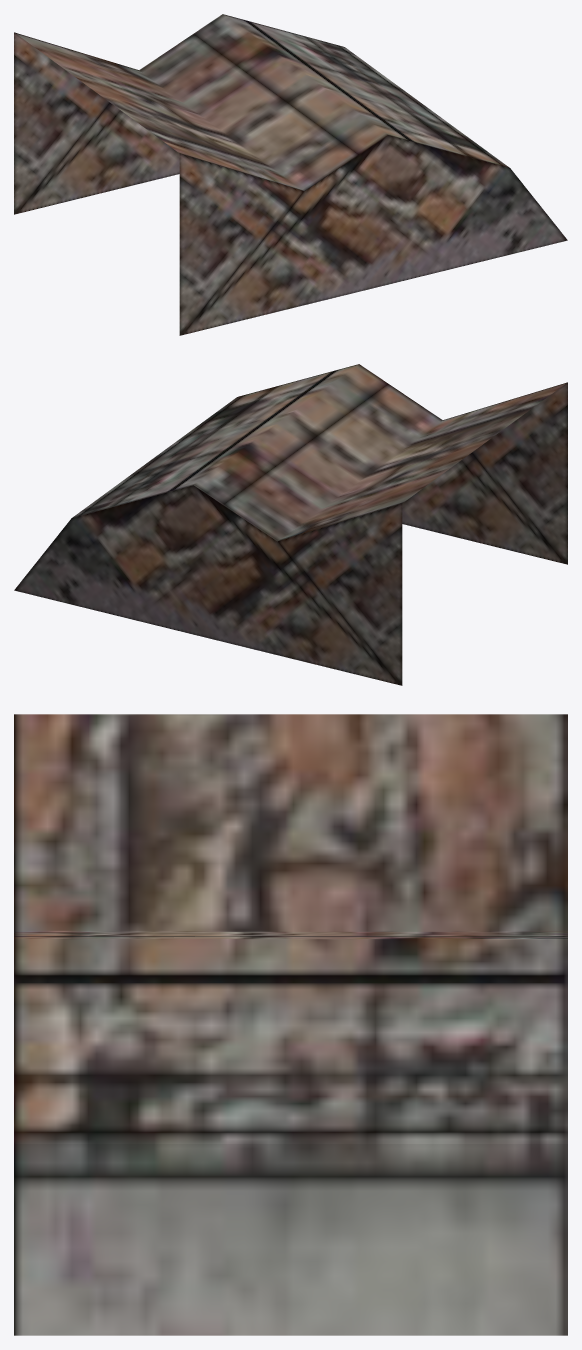
File: bruch_binde.obj
3 views of the same model, one above another, from view 1: azimuth 30°, elevation 25°; view 2: azimuth 150°, elevation 25°; view 3: azimuth 270°, elevation 25° (orthographic). The views are drawn at different scales.
Visible parts, largest first — view 1: polySurface138 polySurface175 polySurface177 polySurface179 poly; view 2: polySurface138 polySurface175 polySurface177 polySurface179 poly; view 3: polySurface138 polySurface175 polySurface177 polySurface179 poly.
Boxes of the visible parts, <box> form: polySurface138 polySurface175 polySurface177 polySurface179 poly: <box>14,14,567,335</box>; polySurface138 polySurface175 polySurface177 polySurface179 poly: <box>14,364,567,685</box>; polySurface138 polySurface175 polySurface177 polySurface179 poly: <box>14,714,567,1335</box>.
Size of the model in its own units: 0.2498 by 0.1122 by 0.1844.
Materials: 1 (1 with a texture image).
